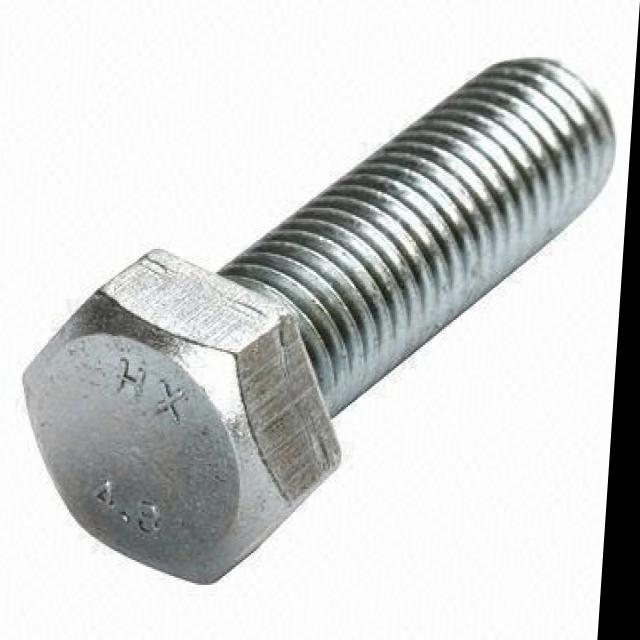Regular bolt: (21, 247, 364, 589)
